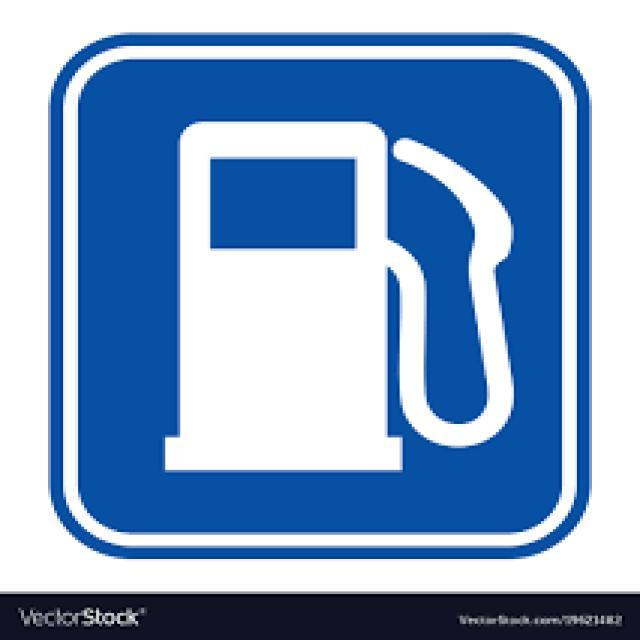petrol pump ahead: (97, 77, 544, 518)
